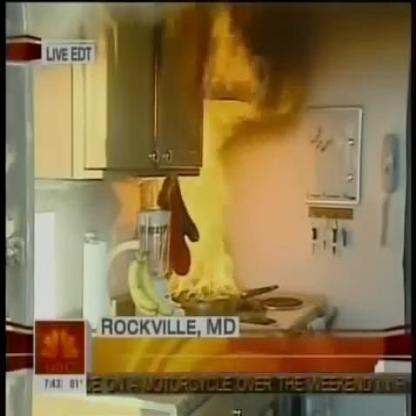fire: (165, 13, 274, 301)
